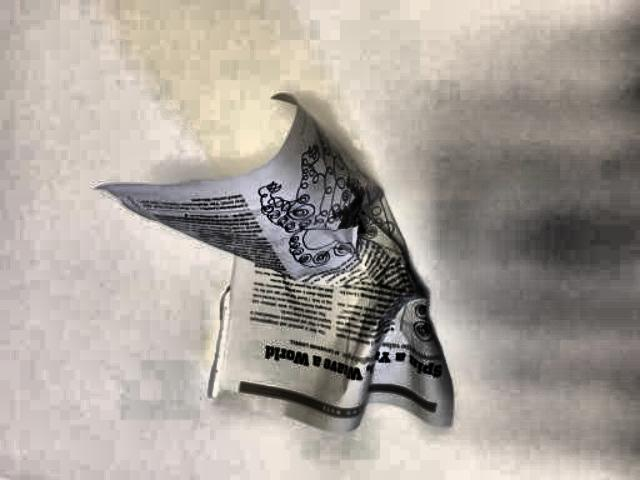Paper: (92, 91, 457, 439)
